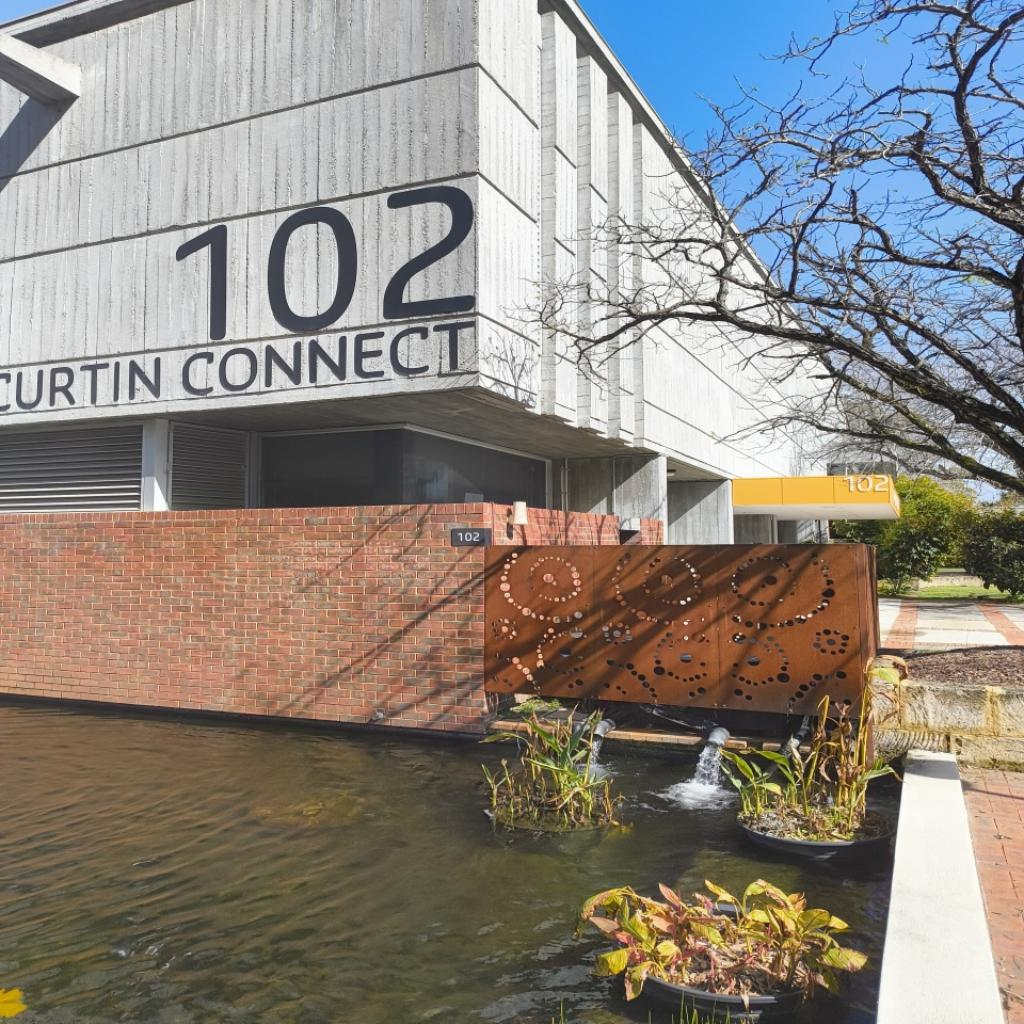BuildingCodes: (171, 175, 481, 347)
